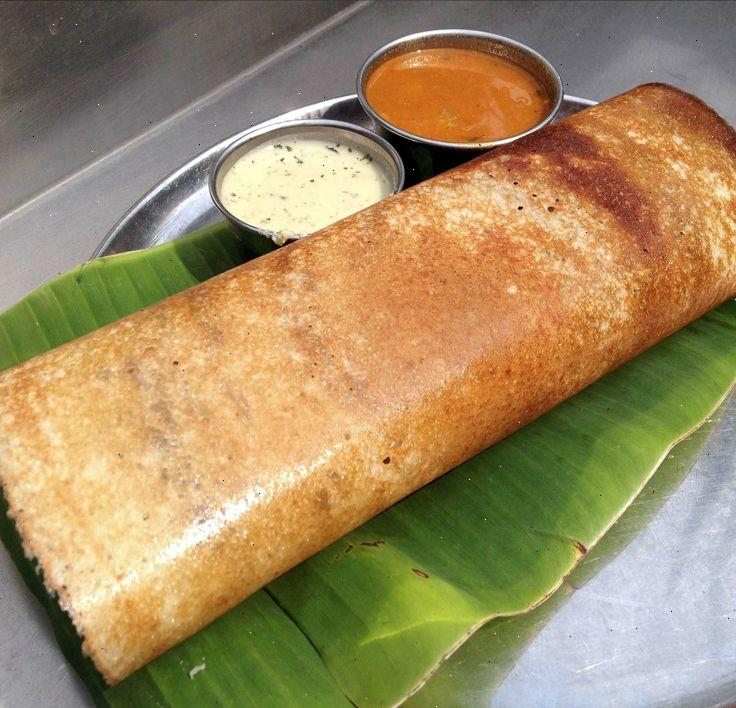dosa: (30, 150, 736, 660)
